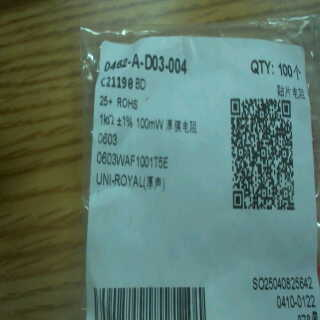1kR: (95, 111, 117, 127)
